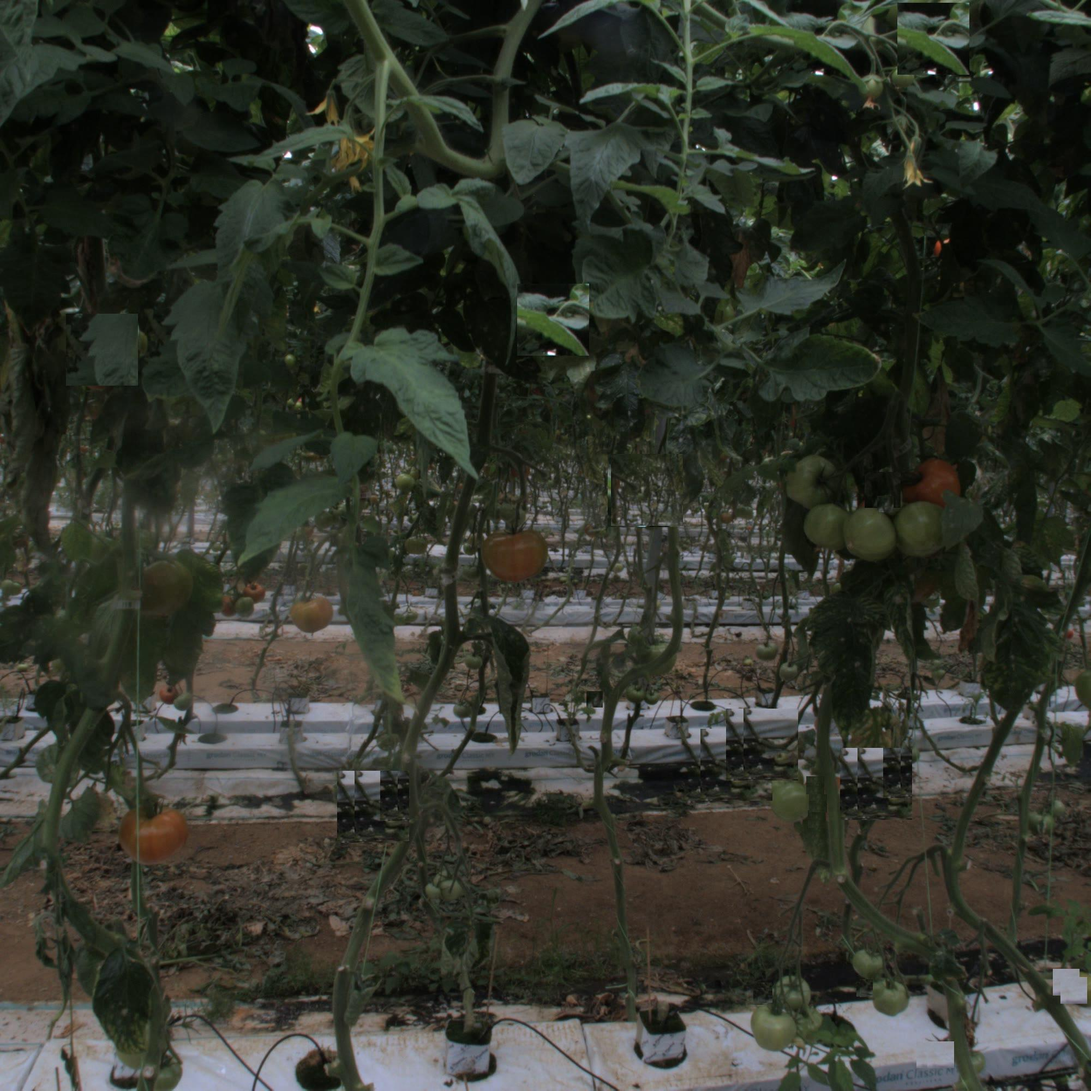['unripe', 'semi-ripe', 'fully-ripe']: (136, 558, 196, 618), (894, 500, 950, 557), (749, 1004, 797, 1052), (789, 457, 837, 505), (803, 502, 851, 550), (846, 511, 894, 559), (773, 974, 812, 1013), (773, 780, 812, 819), (872, 979, 910, 1017), (850, 945, 886, 981)
